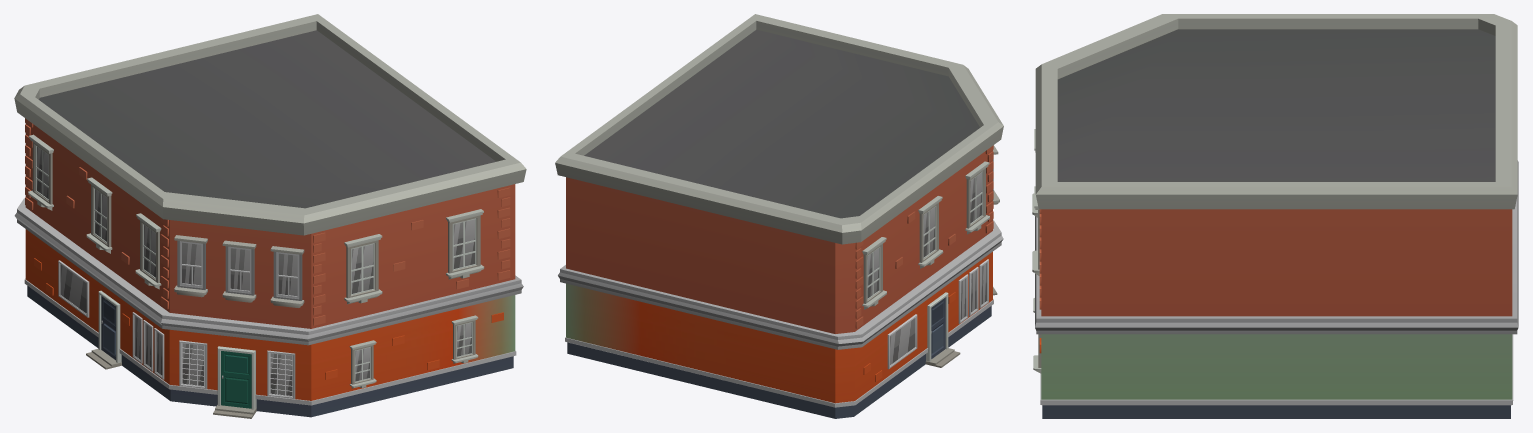
File: Building_25_4_D.fbx
The picture shows the model from 3 angles, left to right: view 1: azimuth 30°, elevation 25°; view 2: azimuth 150°, elevation 25°; view 3: azimuth 270°, elevation 25°; orthographic projection. The views are drawn at different scales.
Parts seen in each view (by area): view 1: Building_25_4_D; view 2: Building_25_4_D; view 3: Building_25_4_D.
Boxes of the visible parts, box(x1,y1,x2,y2) form: Building_25_4_D: box(14, 14, 526, 418); Building_25_4_D: box(555, 14, 1003, 418); Building_25_4_D: box(1032, 14, 1518, 418).
Bounding box in the file's own units: 1291 × 793 × 1479.
